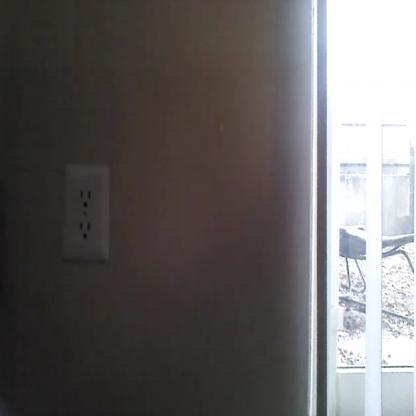OUTLET: (64, 164, 109, 261)
